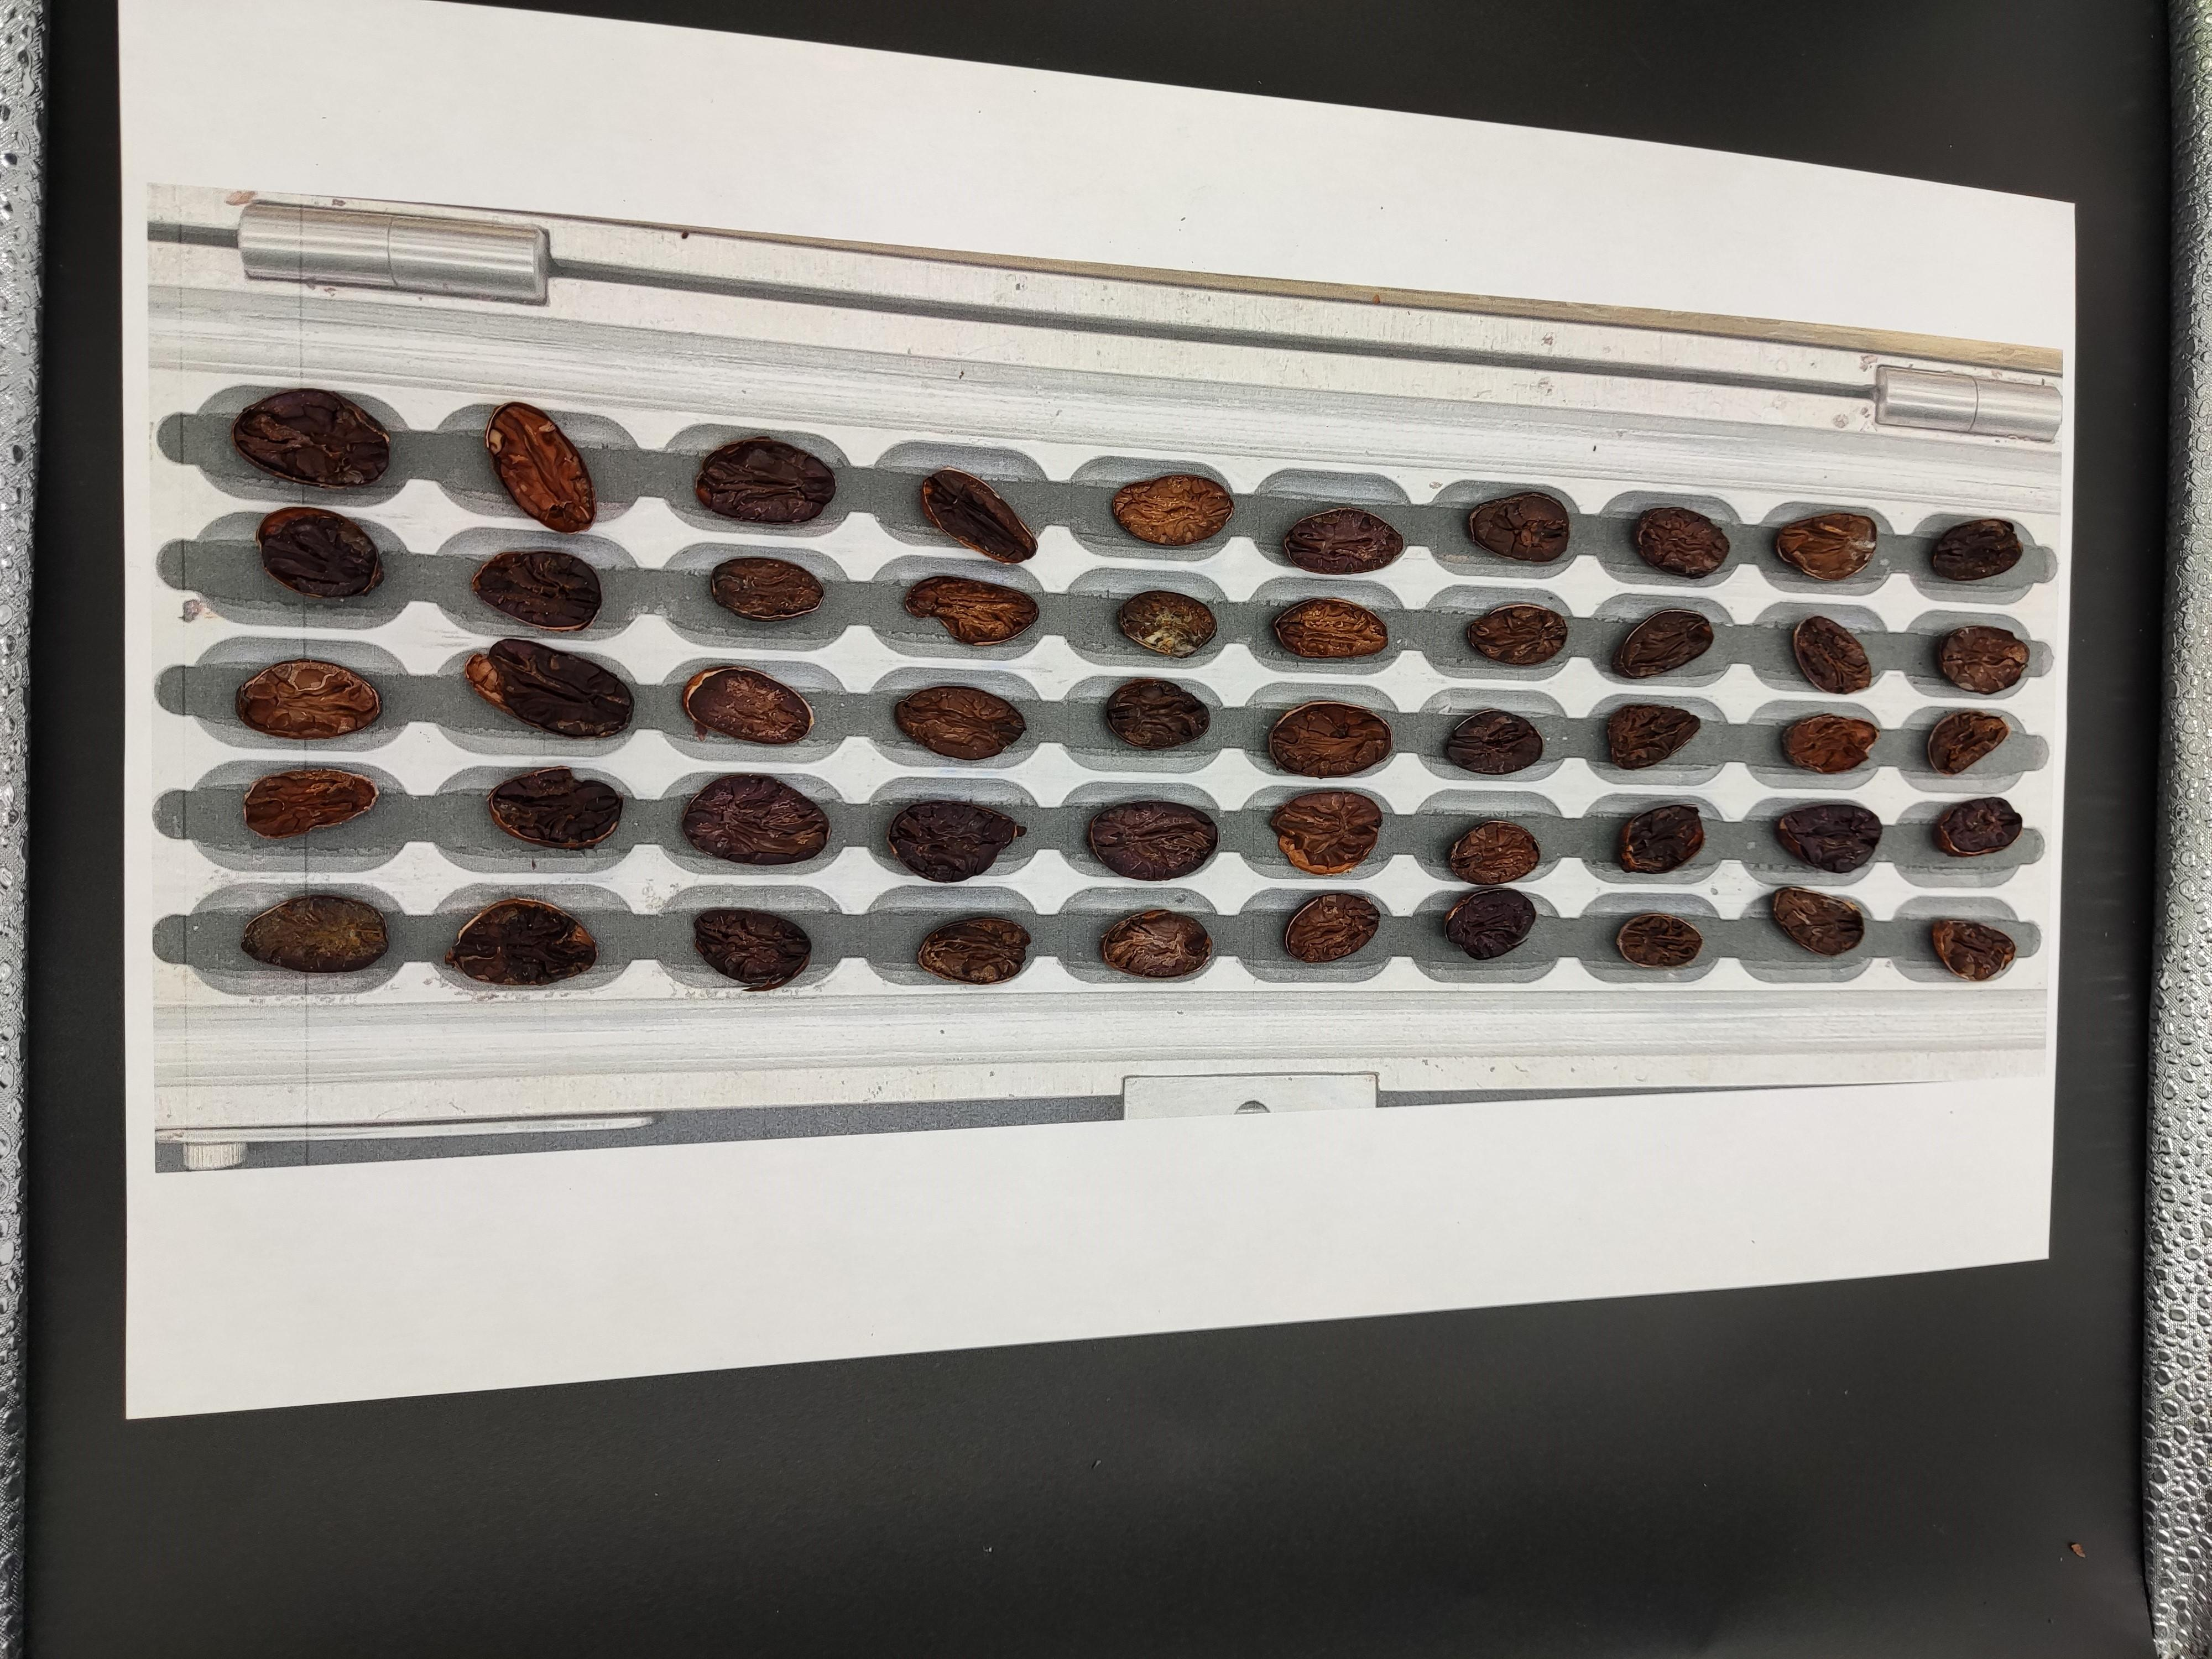Brown - G1: (240, 1014, 310, 1093), (122, 1197, 197, 1244), (646, 1209, 712, 1260), (467, 1274, 533, 1317), (747, 1115, 808, 1155)
Brown - G2: (117, 1143, 200, 1194), (460, 1100, 536, 1143), (648, 1115, 716, 1152), (657, 1263, 711, 1307), (819, 1168, 874, 1208), (909, 1173, 965, 1211), (986, 1277, 1035, 1316)
Brown - G3: (455, 1159, 529, 1204), (646, 1166, 718, 1211), (568, 1049, 636, 1094), (563, 1272, 624, 1314), (902, 1260, 960, 1303), (833, 1066, 888, 1110), (738, 1227, 794, 1267), (989, 1127, 1042, 1169), (914, 1124, 960, 1169), (984, 1171, 1035, 1211)
Brown - G4: (361, 1091, 427, 1134)
Insect-damaged: (117, 1263, 204, 1312)
Mouldy: (906, 1066, 965, 1112), (570, 1110, 625, 1148)
Partly Purple - G1: (242, 1197, 327, 1253), (237, 1086, 314, 1138)
Partly Purple - G2: (347, 1201, 430, 1258), (354, 1026, 432, 1082)
Partly Purple - G3: (653, 1066, 725, 1108)
Partly Purple - G4: (347, 1147, 421, 1195)
Total Purple - G2: (904, 1218, 967, 1262)
Total Purple - G3: (451, 1215, 528, 1265), (554, 1215, 629, 1265), (735, 1262, 791, 1303), (986, 1216, 1038, 1251)
Very Dark Brown - G1: (233, 1134, 329, 1194), (226, 1263, 310, 1321), (131, 1066, 199, 1122), (824, 1274, 874, 1309)
Very Dark Brown - G2: (115, 1006, 206, 1063), (467, 1046, 535, 1105), (352, 1272, 423, 1319), (563, 1154, 625, 1197), (984, 1072, 1040, 1114), (822, 1220, 876, 1262)
Very Dark Brown - G3: (749, 1058, 810, 1101), (822, 1119, 880, 1162), (737, 1171, 794, 1211)
